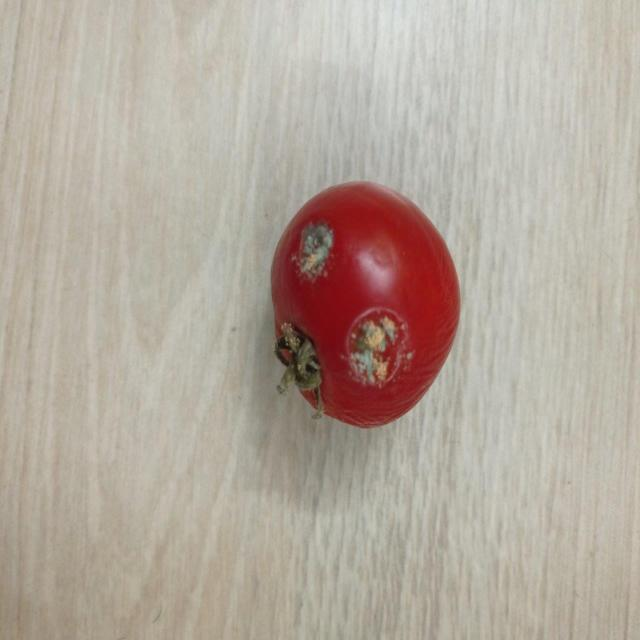Rotten: (268, 179, 462, 425)
